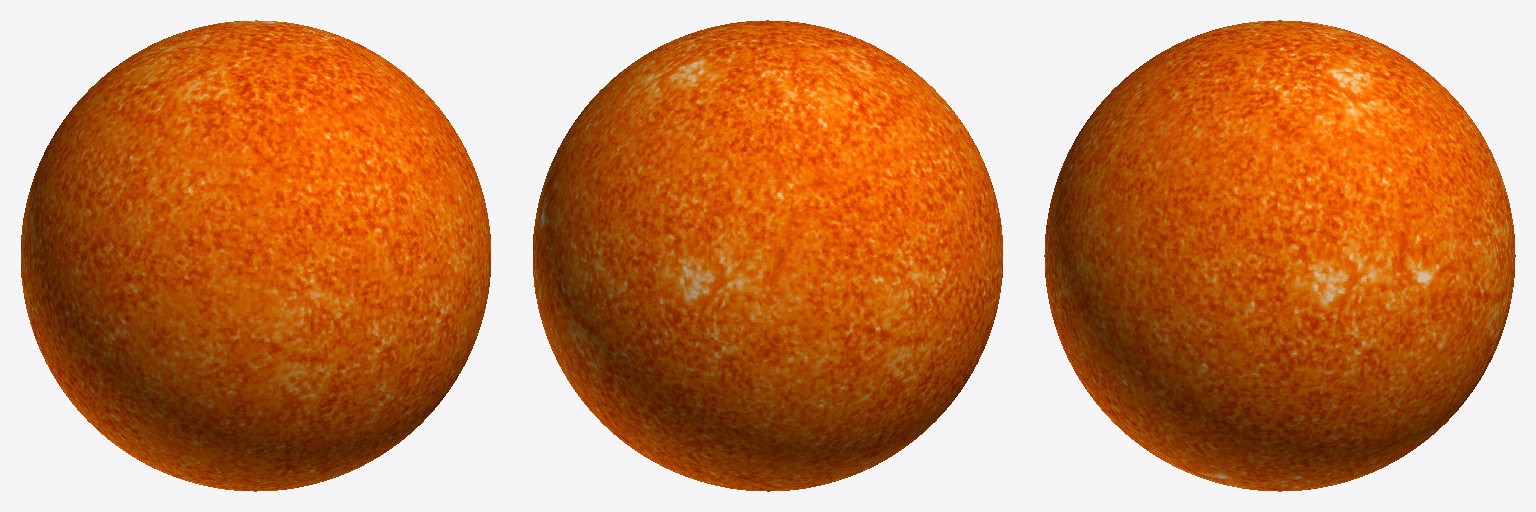
The picture shows the model from 3 angles: view 1: azimuth 30°, elevation 25°; view 2: azimuth 150°, elevation 25°; view 3: azimuth 270°, elevation 25°; orthographic projection.
Parts seen in each view (by area): view 1: Plane_Plane.001; view 2: Plane_Plane.001; view 3: Plane_Plane.001.
Part boxes in pixels (bbox=[...]): Plane_Plane.001: bbox=[21, 20, 490, 491]; Plane_Plane.001: bbox=[533, 20, 1002, 491]; Plane_Plane.001: bbox=[1044, 20, 1515, 491].
Size of the model in its own units: 10 by 10 by 10.
1 materials, 1 textured.